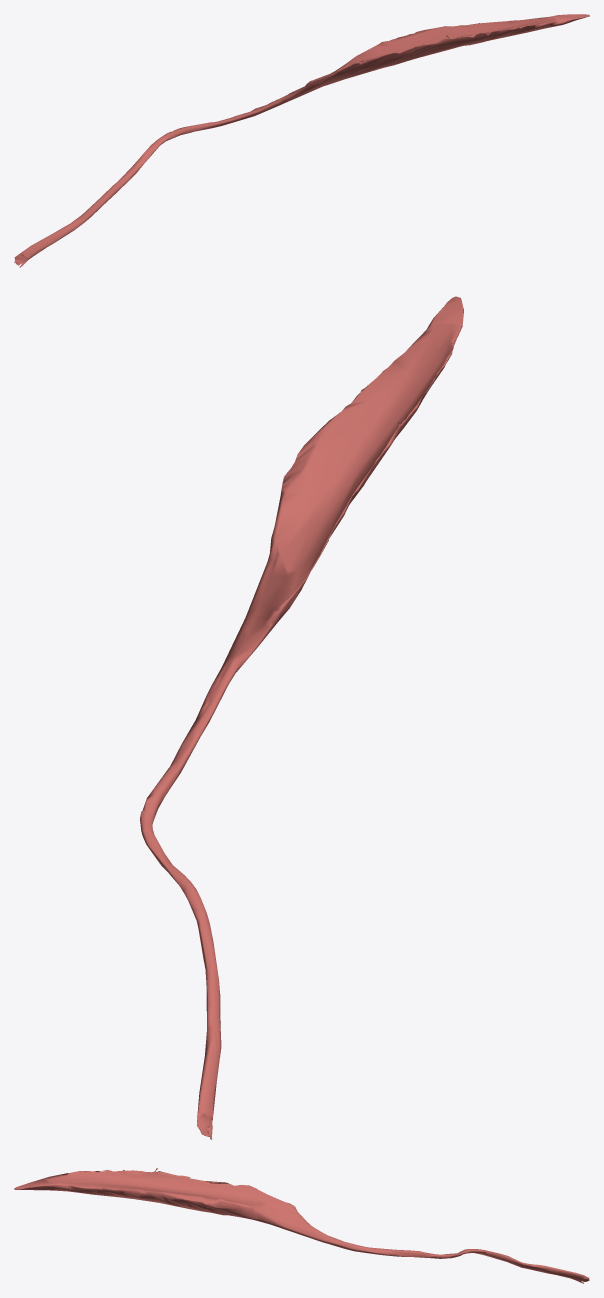
3 renders of one model, top to bottom at view 1: azimuth 90°, elevation 25°; view 2: azimuth 150°, elevation 25°; view 3: azimuth 270°, elevation 25°, orthographic. The views are drawn at different scales.
Visible parts, largest first — view 1: 右侧拇长屈肌; view 2: 右侧拇长屈肌; view 3: 右侧拇长屈肌.
Boxes of the visible parts, bbox=[...] form: 右侧拇长屈肌: bbox=[14, 14, 589, 267]; 右侧拇长屈肌: bbox=[140, 296, 463, 1139]; 右侧拇长屈肌: bbox=[14, 1168, 589, 1283].
Bounding box in the file's own units: 0.115 × 0.1191 × 0.3509.
